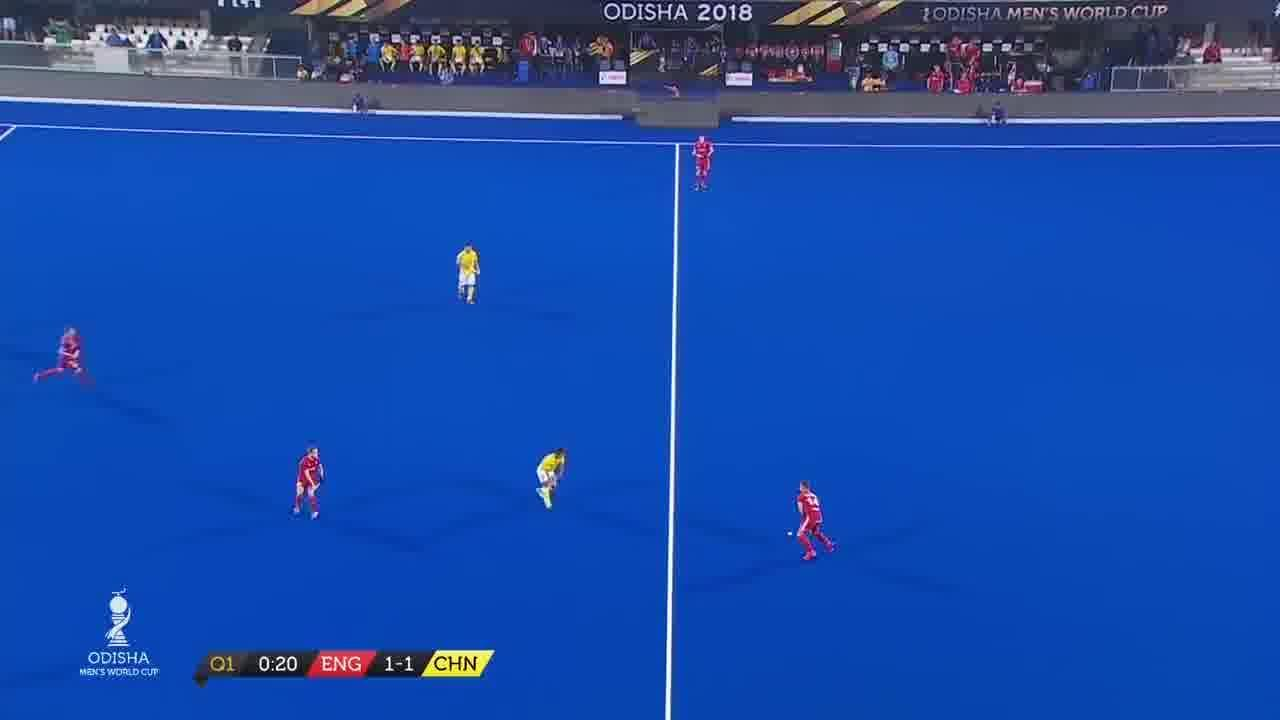ball: (786, 529, 796, 542)
